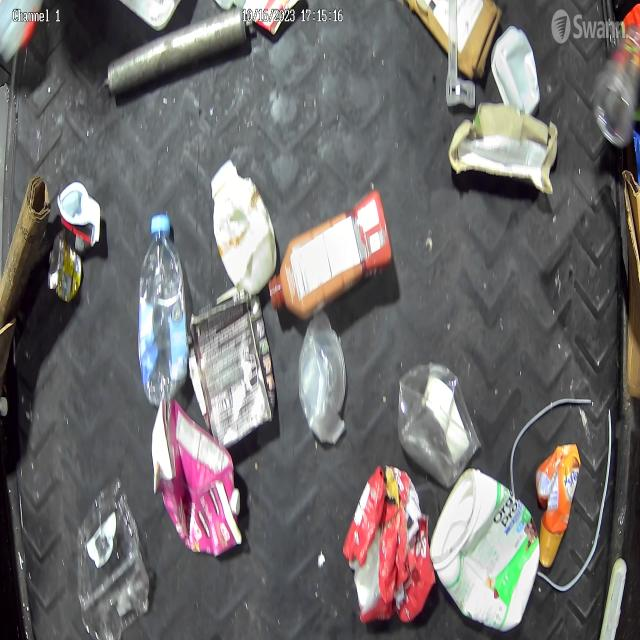can: (42, 227, 86, 301)
milk_jug: (210, 153, 277, 289)
non_white_jug: (429, 461, 544, 632), (152, 401, 246, 556)
plastic_bottle: (138, 217, 190, 405)
